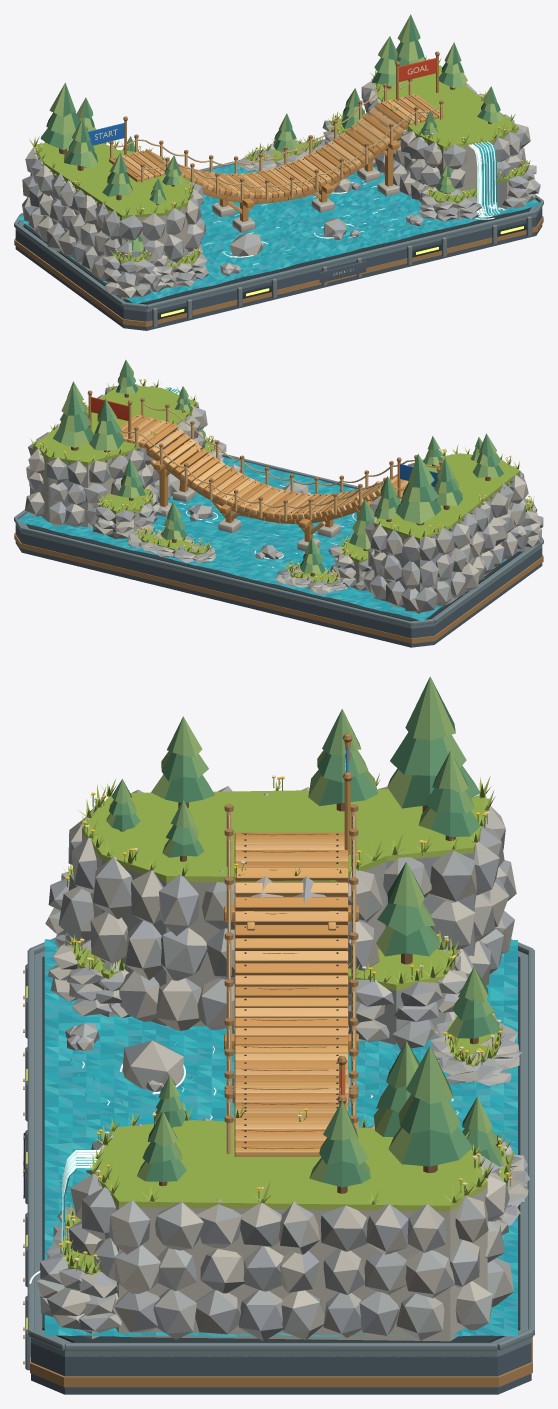
Rendered from CreekDiorama.fbx.
3 renders of one model, top to bottom at view 1: azimuth 30°, elevation 25°; view 2: azimuth 150°, elevation 25°; view 3: azimuth 270°, elevation 25°, orthographic. The views are drawn at different scales.
Visible parts, largest first — view 1: Faceted turquoise river.001, Octagonal plinth.001, East meadow.001, West meadow.001, Copper belt.001, Rim cap.008, Raised steel rim.001, River bed inset.001, Waterfall curtain.002, West highland.001, East highland.001, Rim cap.014 (+18 smaller); view 2: Faceted turquoise river.001, Octagonal plinth.001, West meadow.001, East meadow.001, Copper belt.001, Raised steel rim.001, Rim cap.012, River bed inset.001, East highland.001, West highland.001, Faceted pine crown.051, Ledge moss.013 (+32 smaller); view 3: Faceted turquoise river.001, East meadow.001, West meadow.001, Octagonal plinth.001, Raised steel rim.001, East highland.001, Copper belt.001, Rim cap.010, West highland.001, River bed inset.001, Rim cap.008, Rim cap.012 (+97 smaller).
Part boxes in pixels (x1,y1,x2,y2): Faceted turquoise river.001: [17, 163, 540, 303]; Octagonal plinth.001: [15, 208, 542, 330]; East meadow.001: [376, 65, 518, 148]; West meadow.001: [34, 143, 193, 218]; Copper belt.001: [14, 216, 543, 326]; Rim cap.008: [146, 210, 536, 308]; Raised steel rim.001: [15, 199, 542, 312]; River bed inset.001: [23, 207, 531, 304]; Waterfall curtain.002: [468, 142, 500, 217]; West highland.001: [37, 154, 191, 272]; East highland.001: [376, 86, 515, 192]; Rim cap.014: [14, 223, 124, 305]; Faceted turquoise river.001: [17, 457, 519, 620]; Octagonal plinth.001: [15, 525, 542, 647]; West meadow.001: [374, 453, 520, 540]; East meadow.001: [33, 385, 197, 464]; Copper belt.001: [14, 533, 543, 643]; Raised steel rim.001: [15, 512, 542, 628]; Rim cap.012: [21, 527, 411, 625]; River bed inset.001: [26, 524, 522, 621]; East highland.001: [33, 406, 197, 527]; West highland.001: [374, 474, 520, 613]; Faceted pine crown.051: [395, 500, 441, 524]; Ledge moss.013: [100, 489, 152, 513]; Faceted turquoise river.001: [44, 939, 517, 1336]; East meadow.001: [92, 1120, 487, 1212]; West meadow.001: [82, 789, 489, 882]; Octagonal plinth.001: [31, 1342, 531, 1394]; Raised steel rim.001: [31, 951, 531, 1357]; East highland.001: [101, 1186, 487, 1341]; Copper belt.001: [30, 1337, 532, 1387]; Rim cap.010: [65, 1342, 497, 1351]; West highland.001: [82, 805, 490, 1026]; River bed inset.001: [42, 956, 520, 1342]; Rim cap.008: [27, 949, 34, 1335]; Rim cap.012: [528, 949, 534, 1335].
Bounding box in the file's own units: 294 × 112 × 151.
